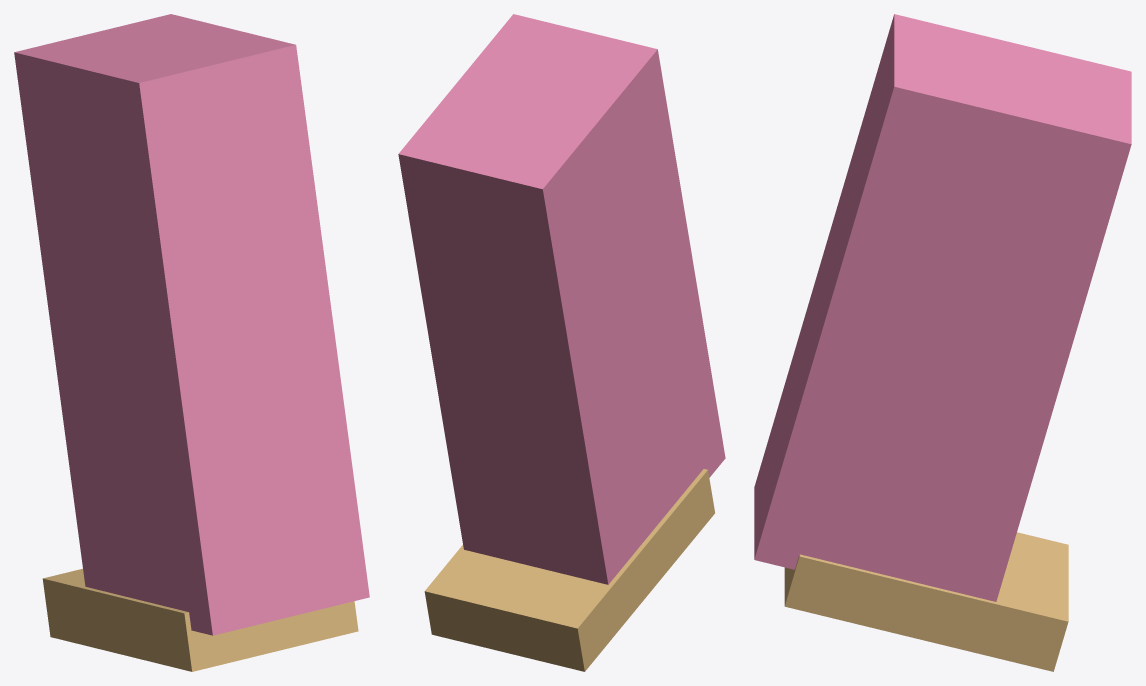
File: StippledGrip.obj
3 views of the same model, side by side, from view 1: azimuth 30°, elevation 25°; view 2: azimuth 150°, elevation 25°; view 3: azimuth 270°, elevation 25° (orthographic). The views are drawn at different scales.
Parts seen in each view (by area): view 1: StippledGrip_Body, StippledGrip_Detail; view 2: StippledGrip_Body, StippledGrip_Detail; view 3: StippledGrip_Body, StippledGrip_Detail.
Boxes of the visible parts, box(x1,y1,x2,y2) form: StippledGrip_Body: box(14, 14, 369, 635); StippledGrip_Detail: box(42, 568, 358, 671); StippledGrip_Body: box(398, 14, 725, 584); StippledGrip_Detail: box(424, 469, 714, 671); StippledGrip_Body: box(754, 14, 1131, 601); StippledGrip_Detail: box(784, 532, 1068, 671).
Bounding box in the file's own units: 0.1113 × 0.3927 × 0.2303.
